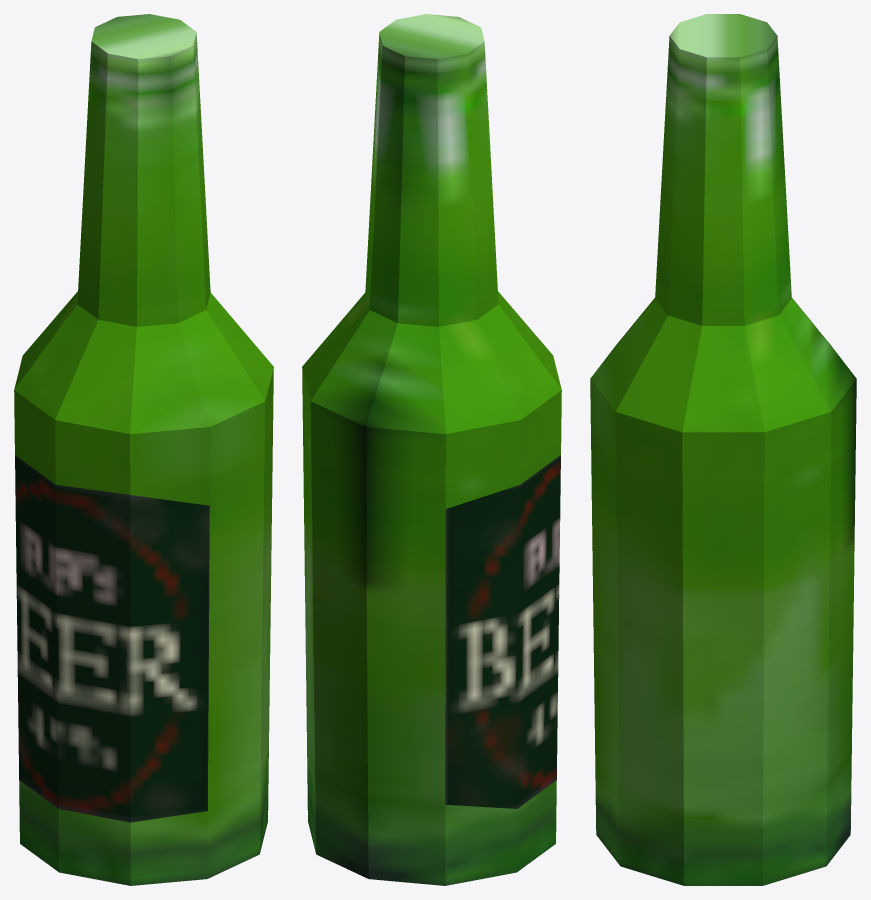
File: soup-beer.glb
The picture shows the model from 3 angles, left to right: view 1: azimuth 30°, elevation 25°; view 2: azimuth 150°, elevation 25°; view 3: azimuth 270°, elevation 25°; orthographic projection.
Parts seen in each view (by area): view 1: soup-beer; view 2: soup-beer; view 3: soup-beer.
Boxes of the visible parts, x1,y1,x2,y2 form: soup-beer: [14, 14, 273, 885]; soup-beer: [302, 14, 561, 885]; soup-beer: [590, 14, 856, 885].
Size of the model in its own units: 0.1245 by 0.4331 by 0.1309.
Materials: 1 (1 with a texture image).
